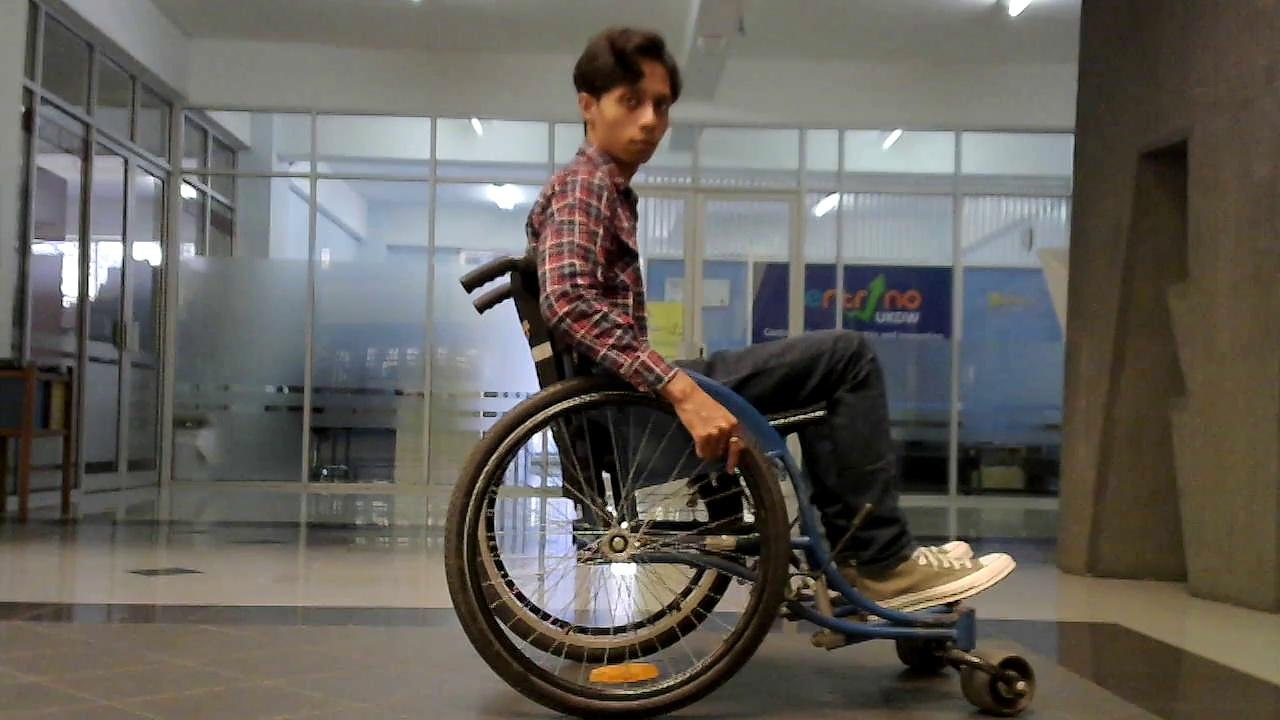person: (517, 24, 993, 619)
wheelchair: (421, 248, 1046, 720)
